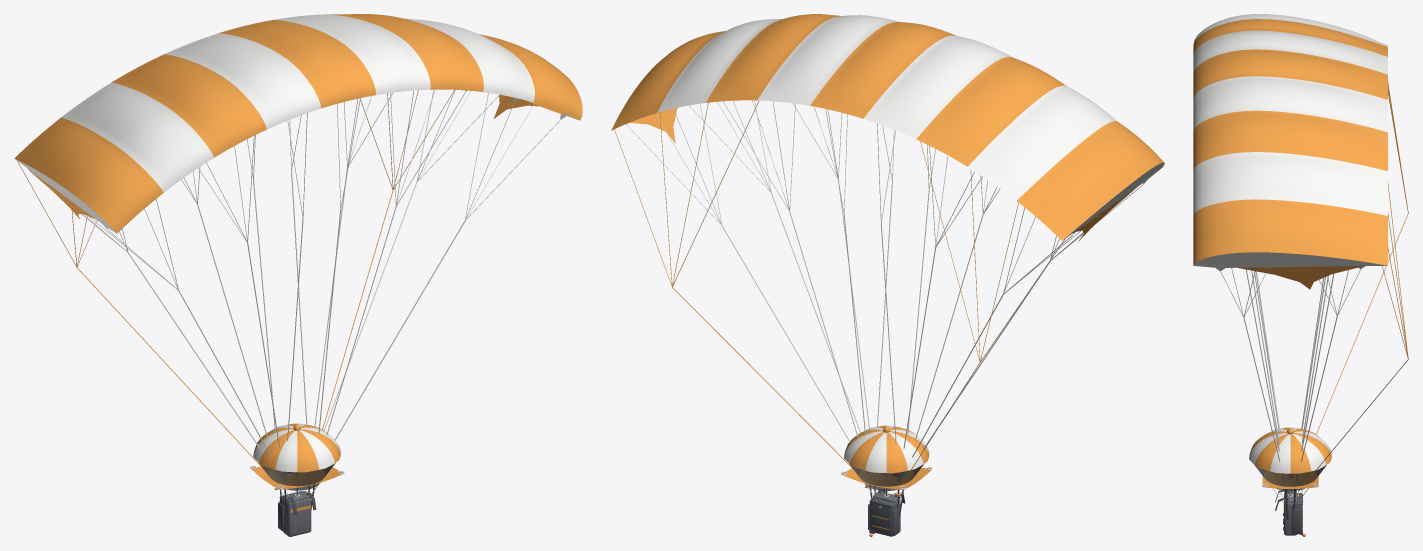
The model's file is chute.glb.
The picture shows the model from 3 angles, left to right: view 1: azimuth 30°, elevation 25°; view 2: azimuth 150°, elevation 25°; view 3: azimuth 270°, elevation 25°; orthographic projection. The views are drawn at different scales.
Parts seen in each view (by area): view 1: Canopy, Lines, PilotChute, DeployBag, Slider; view 2: Canopy, Lines, PilotChute, Container, Slider; view 3: Canopy, Lines, PilotChute, Slider, Container, DeployBag.
Part boxes in pixels (x1,y1,x2,y2): Canopy: (14, 14, 582, 233); Lines: (17, 89, 559, 480); PilotChute: (253, 423, 340, 506); DeployBag: (283, 491, 311, 536); Slider: (250, 466, 344, 489); Canopy: (611, 14, 1164, 241); Lines: (614, 100, 1142, 490); PilotChute: (844, 425, 929, 502); Container: (868, 489, 905, 536); Slider: (841, 467, 932, 489); Canopy: (1193, 14, 1387, 289); Lines: (1220, 82, 1408, 491); PilotChute: (1249, 427, 1332, 503); Slider: (1262, 471, 1319, 488); Container: (1275, 489, 1305, 536); DeployBag: (1283, 491, 1296, 535).
Bounding box in the file's own units: 7.18 × 6.99 × 2.88.
